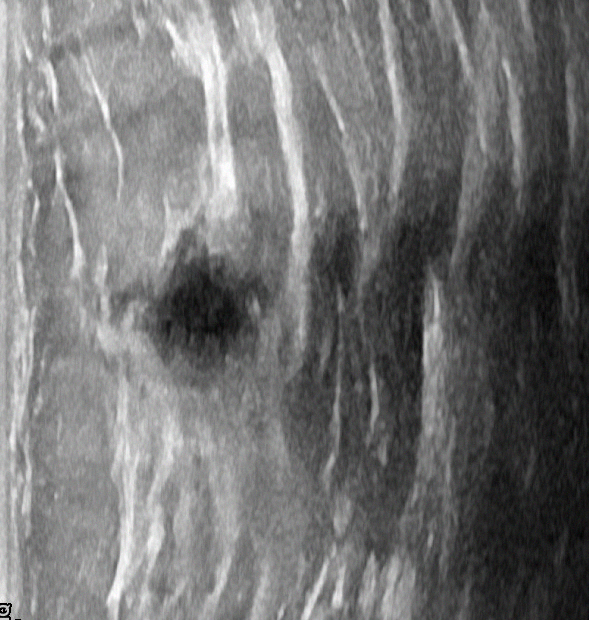Malignant: (114, 228, 259, 368)
